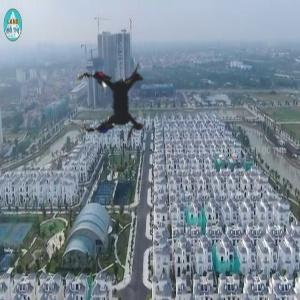drone: (42, 30, 196, 184)
